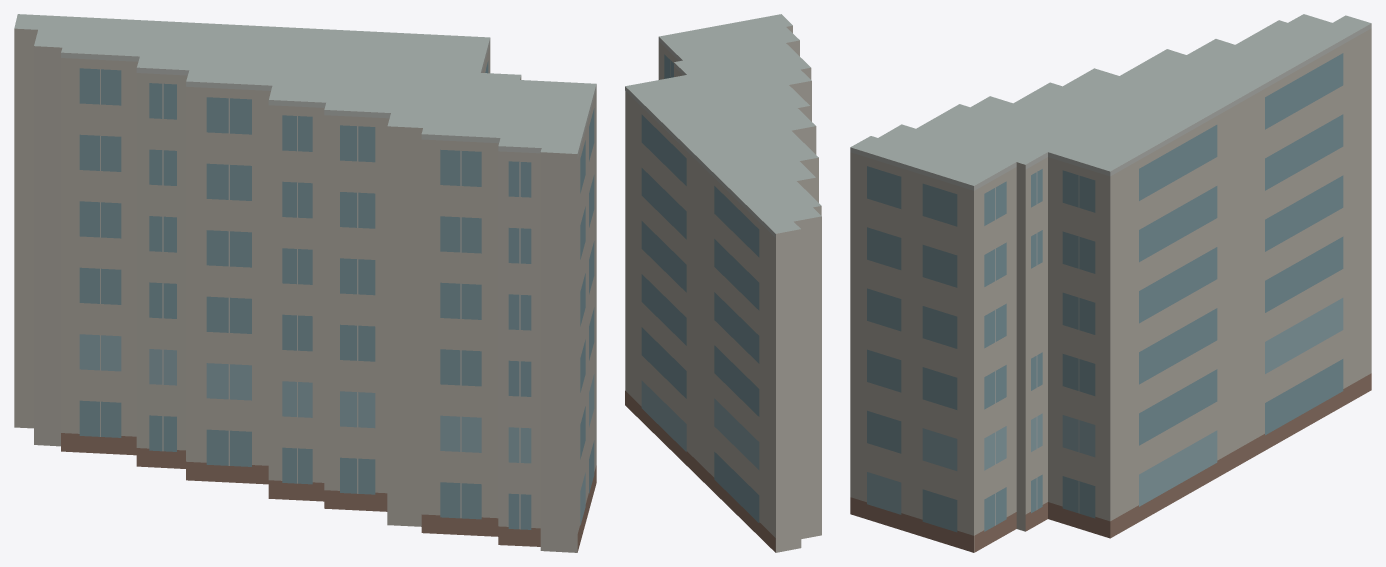
File: survey-upis-32671696.glb
3 views of the same model, side by side, from view 1: azimuth 30°, elevation 25°; view 2: azimuth 150°, elevation 25°; view 3: azimuth 270°, elevation 25° (orthographic). The views are drawn at different scales.
Parts seen in each view (by area): view 1: survey-upis-32671696.tmp; view 2: survey-upis-32671696.tmp; view 3: survey-upis-32671696.tmp.
Boxes of the visible parts, x1,y1,x2,y2 form: survey-upis-32671696.tmp: [14, 14, 596, 552]; survey-upis-32671696.tmp: [625, 14, 821, 552]; survey-upis-32671696.tmp: [850, 14, 1371, 552].
Bounding box in the file's own units: 18.41 × 18.3 × 23.58.
